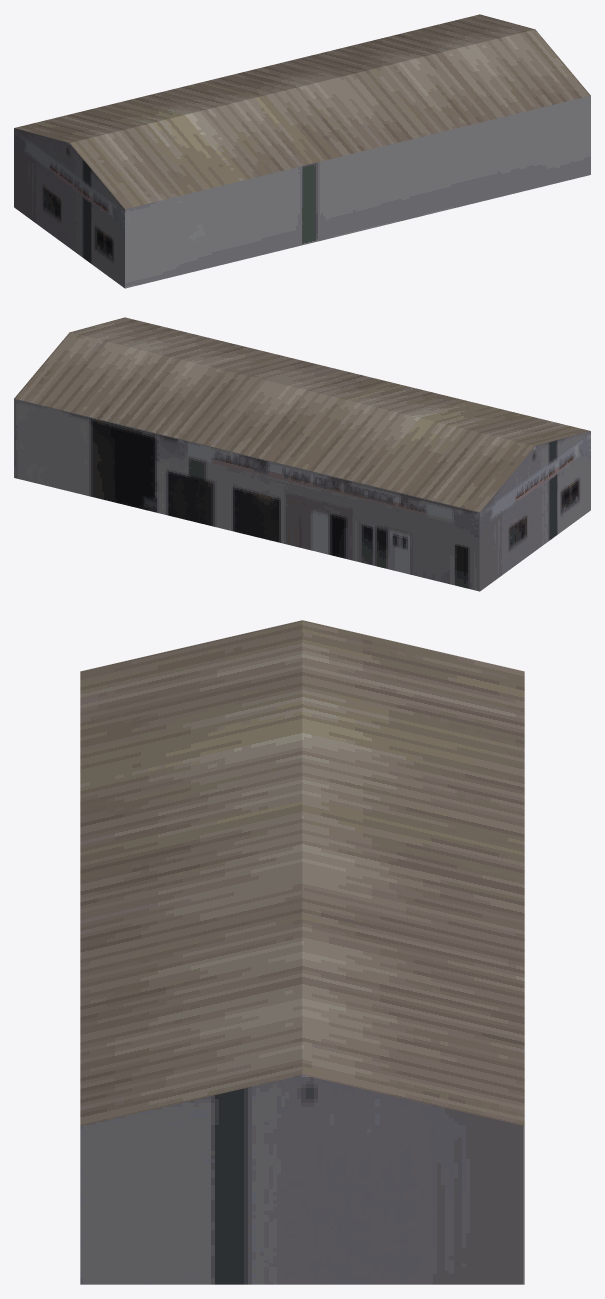
File: garage.glb
3 views of the same model, one above another, from view 1: azimuth 30°, elevation 25°; view 2: azimuth 150°, elevation 25°; view 3: azimuth 270°, elevation 25° (orthographic). The views are drawn at different scales.
Parts seen in each view (by area): view 1: Cube; view 2: Cube; view 3: Cube.
Boxes of the visible parts, left/top/right/bottom form: Cube: left=14, top=14, right=590, bottom=288; Cube: left=14, top=317, right=590, bottom=591; Cube: left=80, top=620, right=524, bottom=1284.
Bounding box in the file's own units: 27.99 × 6.02 × 11.55.
1 material, 1 textured.
